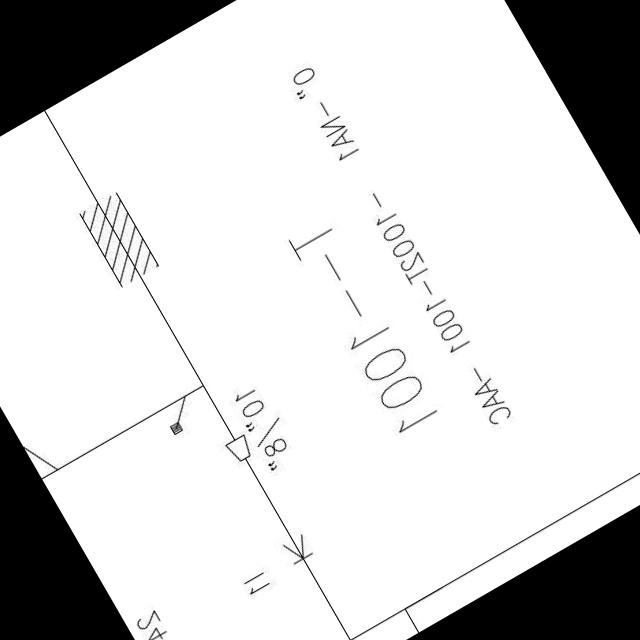SP: (216, 422, 262, 470)
